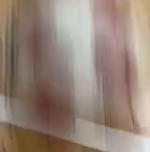Sports-Ball: (12, 6, 138, 114)
